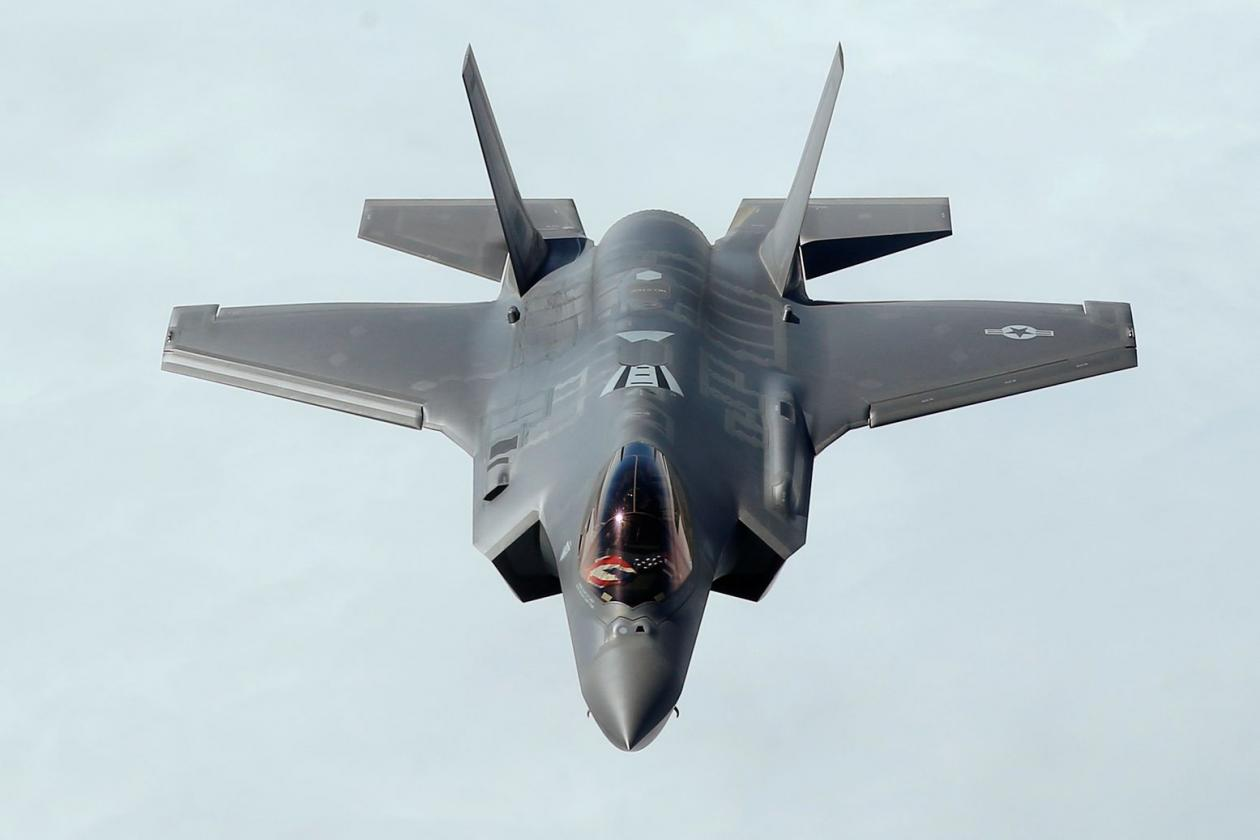F-35 Lightning: (192, 30, 1159, 747)
